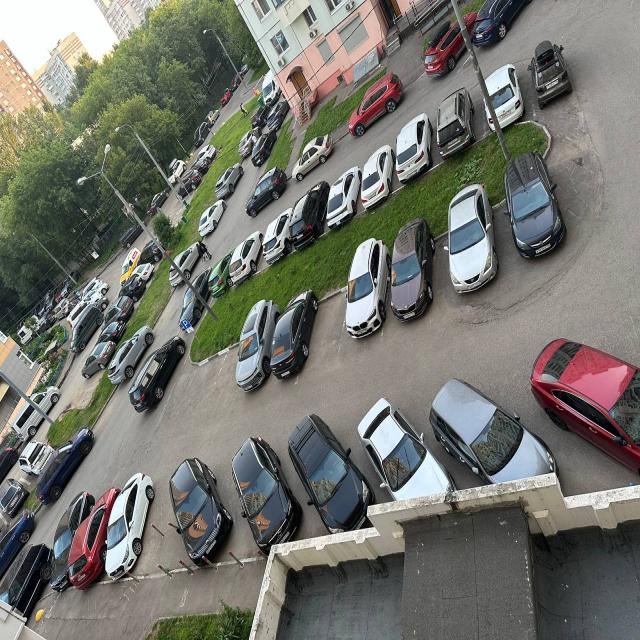car: (529, 335, 640, 476), (429, 378, 559, 484), (286, 410, 377, 532), (357, 398, 454, 503), (231, 436, 301, 548), (168, 456, 232, 568), (501, 149, 565, 260), (448, 179, 499, 292), (35, 426, 96, 510), (106, 473, 154, 579), (69, 487, 116, 588), (390, 216, 434, 322), (130, 334, 188, 414), (51, 491, 96, 593), (345, 236, 390, 337), (270, 291, 317, 382), (345, 70, 406, 138), (1, 541, 53, 620), (236, 298, 279, 391), (424, 12, 478, 80), (524, 37, 573, 110), (289, 177, 330, 253), (436, 83, 475, 160), (106, 326, 154, 387), (481, 62, 524, 130), (472, 0, 532, 47), (13, 387, 61, 441), (396, 110, 433, 180), (0, 506, 36, 577), (360, 142, 394, 210), (328, 166, 363, 229), (245, 167, 289, 217), (291, 132, 334, 183), (231, 232, 265, 288), (167, 239, 203, 289), (69, 305, 105, 354), (179, 270, 209, 328), (264, 208, 290, 266), (67, 291, 103, 330), (81, 340, 116, 379), (0, 479, 29, 519), (199, 199, 227, 237), (19, 440, 50, 474), (216, 163, 244, 200), (209, 249, 231, 296), (104, 292, 136, 323), (252, 129, 277, 168), (76, 296, 110, 323), (135, 237, 167, 265), (116, 273, 148, 300), (175, 169, 201, 201), (262, 70, 282, 108), (120, 221, 147, 249), (121, 247, 141, 284), (239, 127, 262, 158), (96, 320, 126, 343), (267, 101, 290, 131), (0, 442, 17, 482), (81, 277, 109, 301), (146, 191, 170, 218), (18, 315, 38, 345), (34, 309, 56, 336), (60, 270, 80, 298), (168, 159, 187, 186), (251, 105, 272, 129), (131, 262, 156, 280), (194, 122, 210, 147), (197, 144, 216, 163), (190, 159, 209, 177), (54, 298, 68, 321), (68, 289, 81, 312), (45, 290, 57, 312), (205, 110, 220, 127), (231, 71, 243, 92), (220, 88, 232, 107), (37, 295, 47, 317), (240, 55, 250, 75), (54, 282, 63, 303), (17, 317, 26, 333), (30, 304, 40, 318)
